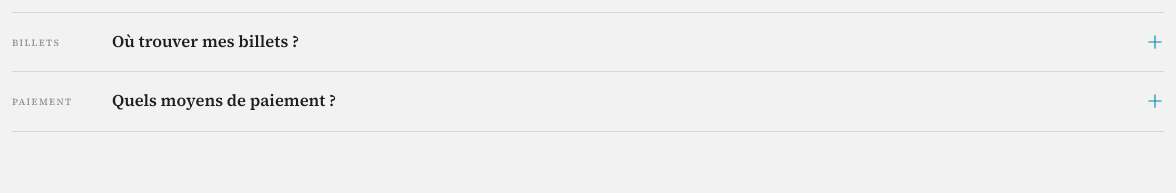
Accordion › ouvre une question et lie la réponse au bouton
Click the button "Billets Où trouver mes billets ?".
click(36, 42)  # box top-left (12, 13), bottom-right (1164, 71)
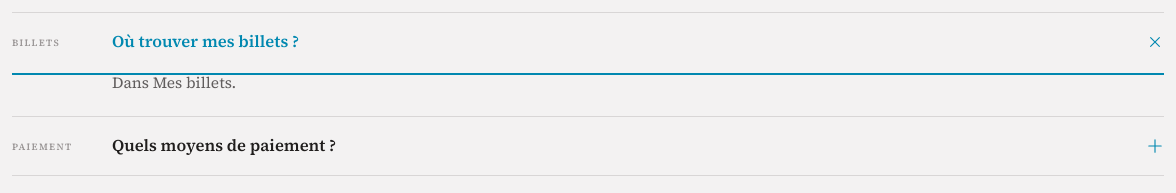
Check: the button "Billets Où trouver mes billets ?" is expanded, box top-left (12, 13), bottom-right (1164, 71)
Check: the text named "Où trouver mes billets" reads "Dans Mes billets.", box top-left (112, 72), bottom-right (236, 93)
